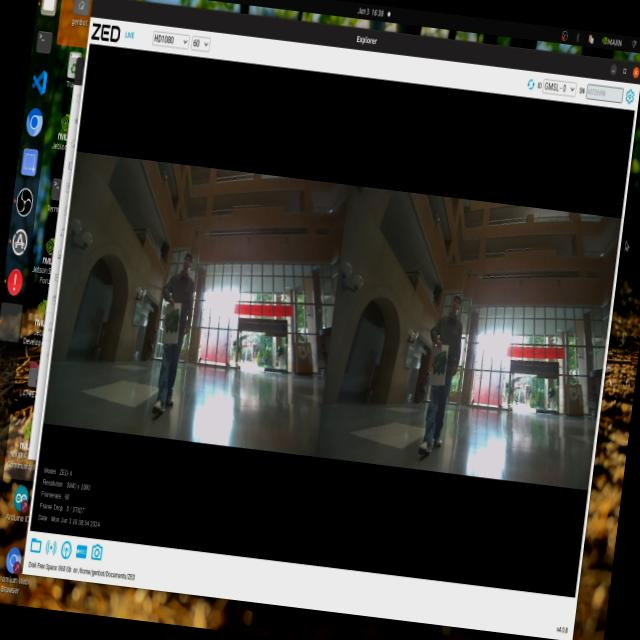green: (424, 346, 449, 378), (164, 307, 183, 338)
